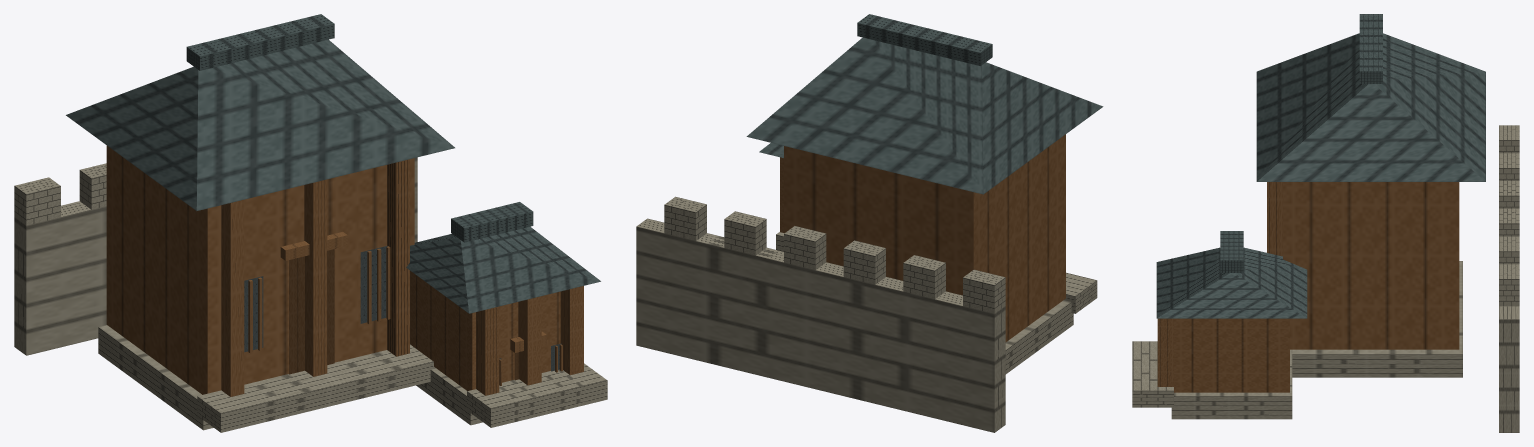
The model's file is domestic-STABLE-3-lod0.glb.
The picture shows the model from 3 angles, left to right: view 1: azimuth 30°, elevation 25°; view 2: azimuth 150°, elevation 25°; view 3: azimuth 270°, elevation 25°; orthographic projection. The views are drawn at different scales.
Bounding box in the file's own units: 0.85 × 0.695 × 0.835.
1 material, 1 textured.
